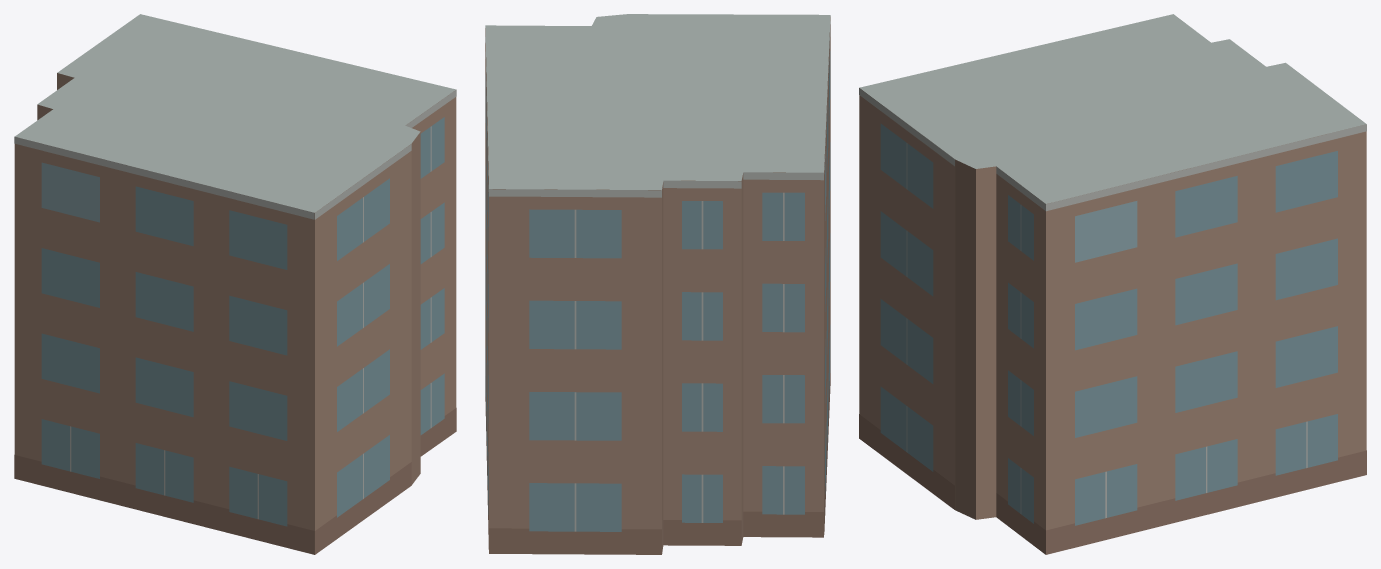
The model's file is survey-upis-32603453.glb.
3 renders of one model, left to right at view 1: azimuth 30°, elevation 25°; view 2: azimuth 150°, elevation 25°; view 3: azimuth 270°, elevation 25°, orthographic. The views are drawn at different scales.
Parts seen in each view (by area): view 1: survey-upis-32603453.tmp; view 2: survey-upis-32603453.tmp; view 3: survey-upis-32603453.tmp.
Part boxes in pixels (<box>): survey-upis-32603453.tmp: <box>14,14,456,554</box>; survey-upis-32603453.tmp: <box>485,14,830,554</box>; survey-upis-32603453.tmp: <box>859,14,1366,554</box>.
Size of the model in its own units: 13.84 by 11.9 by 15.61.
